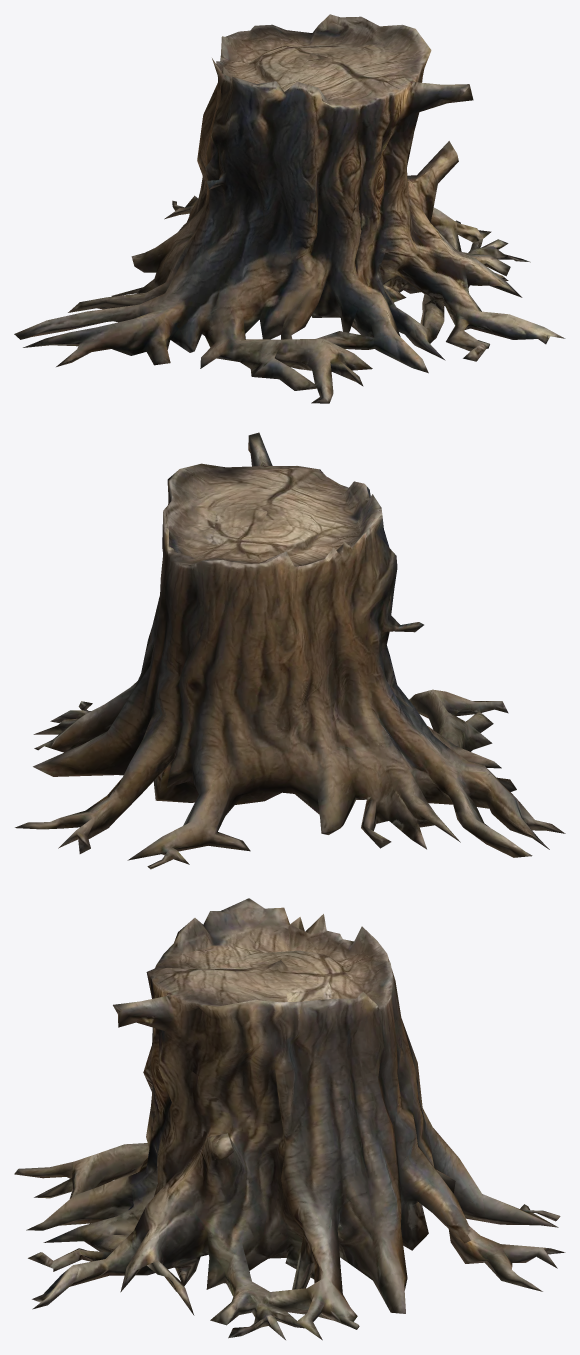
Rendered from stump_2.glb.
3 views of the same model, one above another, from view 1: azimuth 30°, elevation 25°; view 2: azimuth 150°, elevation 25°; view 3: azimuth 270°, elevation 25° (orthographic). The views are drawn at different scales.
Parts seen in each view (by area): view 1: stump6_LOW_RES; view 2: stump6_LOW_RES; view 3: stump6_LOW_RES.
Part boxes in pixels (left/top/right/bottom): stump6_LOW_RES: left=14, top=14, right=565, bottom=403; stump6_LOW_RES: left=15, top=432, right=565, bottom=869; stump6_LOW_RES: left=14, top=898, right=565, bottom=1340.
Bounding box in the file's own units: 1.95 × 1 × 1.74.
1 material, 1 textured.
